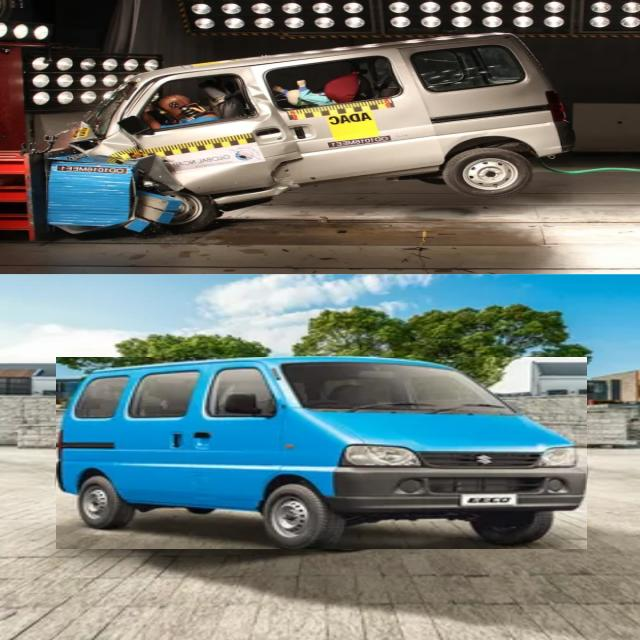accident: (44, 34, 573, 234)
car: (56, 357, 587, 549)
